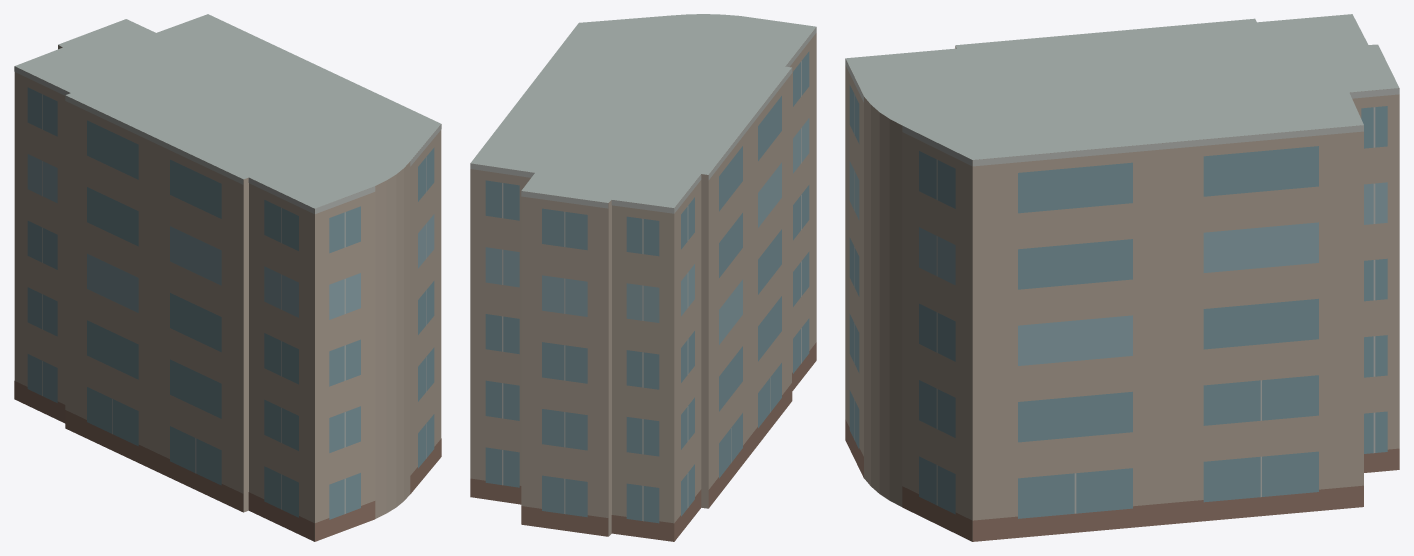
File: survey-upis-32872904.glb
3 views of the same model, side by side, from view 1: azimuth 30°, elevation 25°; view 2: azimuth 150°, elevation 25°; view 3: azimuth 270°, elevation 25° (orthographic). The views are drawn at different scales.
Visible parts, largest first — view 1: survey-upis-32872904.tmp; view 2: survey-upis-32872904.tmp; view 3: survey-upis-32872904.tmp.
Part boxes in pixels (x1,y1,x2,y2): survey-upis-32872904.tmp: (14,14,441,541); survey-upis-32872904.tmp: (470,14,816,541); survey-upis-32872904.tmp: (845,14,1399,541).
Size of the model in its own units: 11.9 by 14.5 by 19.08.
